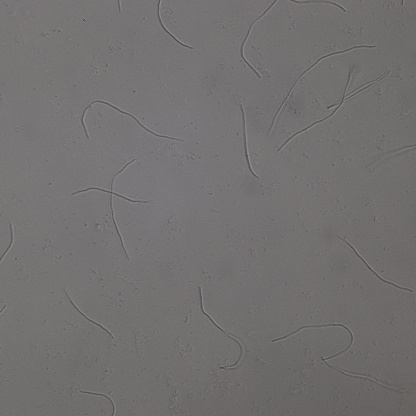Sensitive: (272, 43, 376, 128), (71, 157, 151, 262), (282, 73, 352, 151), (337, 236, 412, 292), (81, 99, 183, 140), (197, 285, 244, 370), (238, 1, 278, 76), (271, 323, 355, 358), (64, 291, 112, 337), (154, 1, 192, 48), (240, 106, 257, 177), (80, 388, 117, 416), (287, 1, 347, 13)
